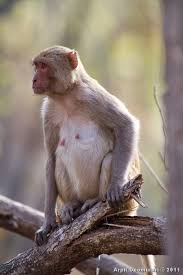monkey: (11, 15, 167, 257)
